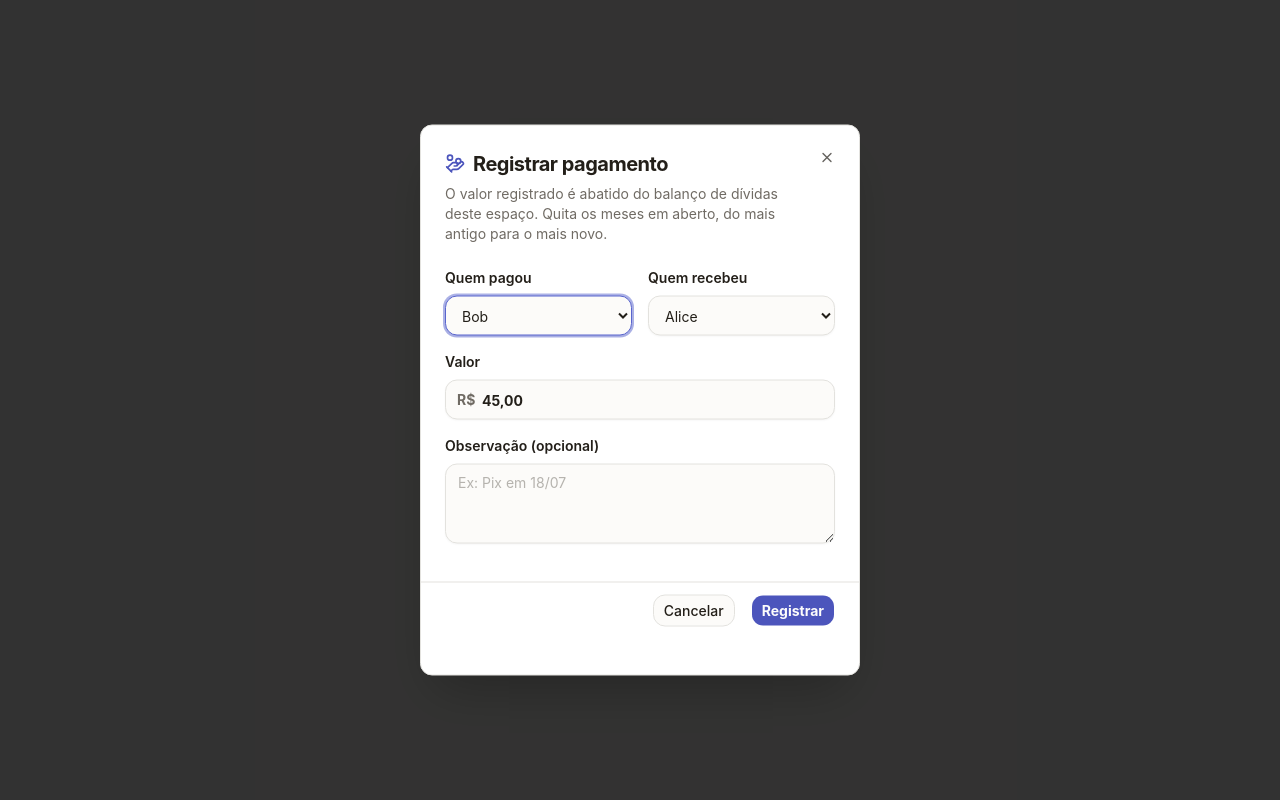
Test: SettlementDialog › exibe a mensagem de erro do envelope da API
Click the button "Registrar": (793, 610) [751,594,835,626]
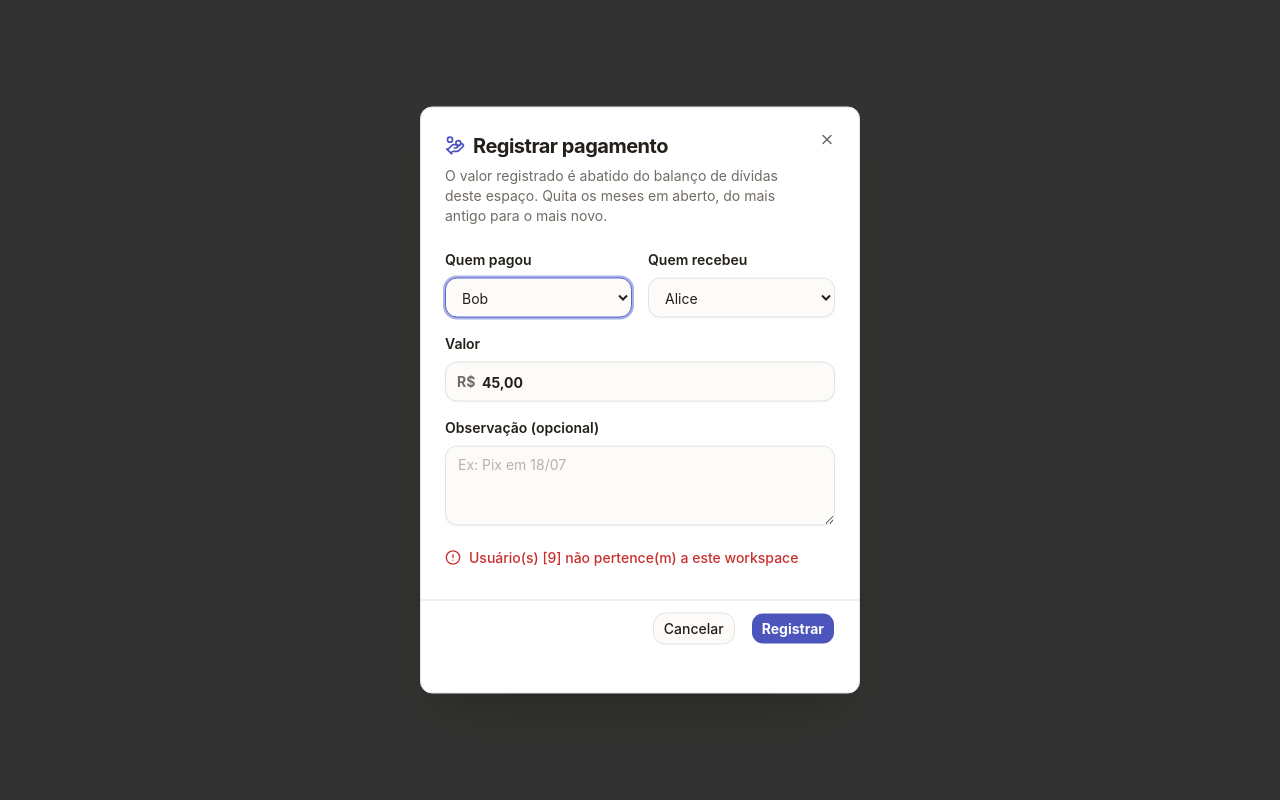
Check: the message shows "não pertence", box [469,548,798,566]
